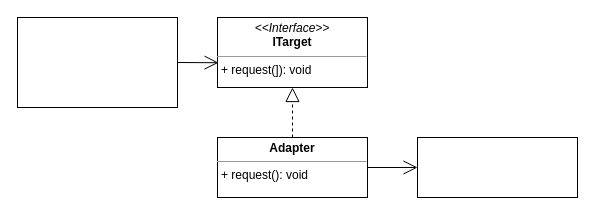
The diagram is 595 pixels wide and 215 high, and some of its shapes have lost their labels. Each missing label, with the centre of its shape:
Adaptee + specificRequest(): void: the point at 497,167
Client: the point at 97,62
